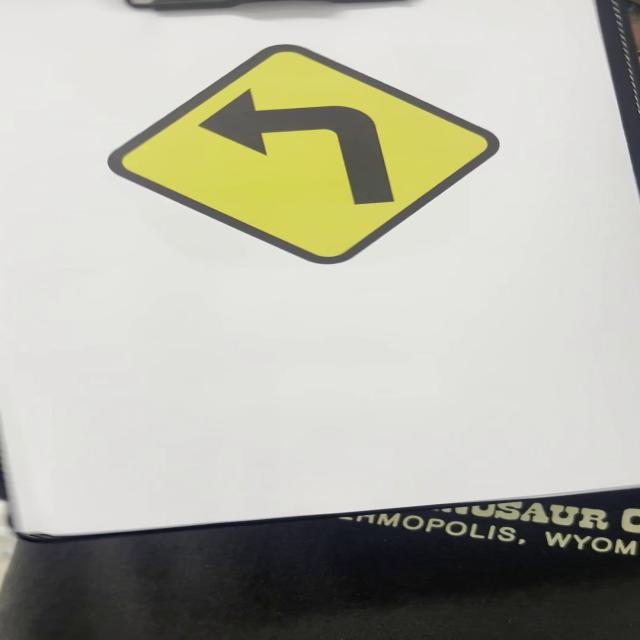left: (113, 43, 491, 266)
